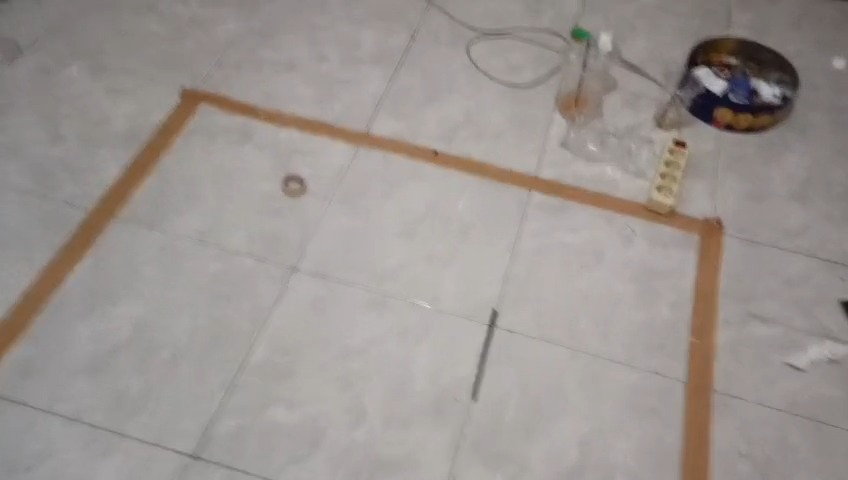floor marking: (0, 89, 723, 479)
